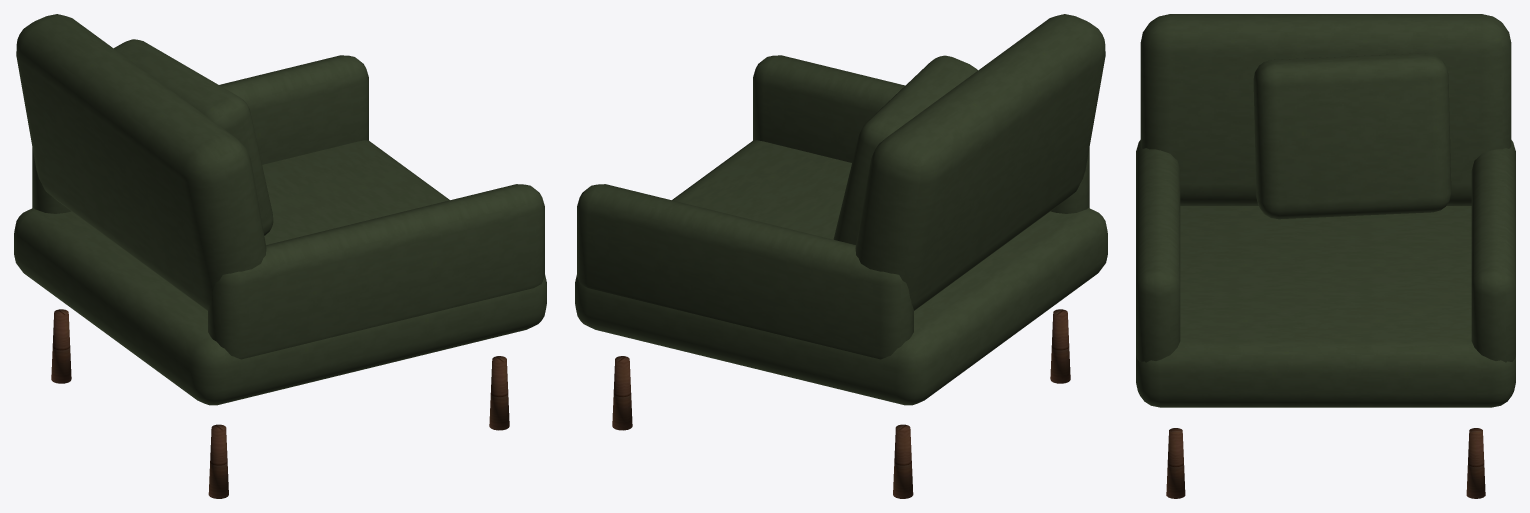
The model's file is living_reading_chair.glb.
The picture shows the model from 3 angles, left to right: view 1: azimuth 30°, elevation 25°; view 2: azimuth 150°, elevation 25°; view 3: azimuth 270°, elevation 25°; orthographic projection. The views are drawn at different scales.
Parts seen in each view (by area): view 1: living_reading_chair; view 2: living_reading_chair; view 3: living_reading_chair.
Boxes of the visible parts, left/top/right/bottom form: living_reading_chair: left=14, top=14, right=546, bottom=498; living_reading_chair: left=575, top=14, right=1107, bottom=498; living_reading_chair: left=1136, top=14, right=1515, bottom=498.
Size of the model in its own units: 0.8853 by 0.8589 by 0.86.
2 materials, 2 textured.
